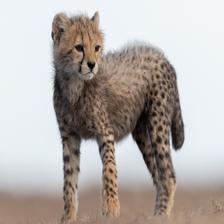Cheetah: (50, 10, 185, 224)
